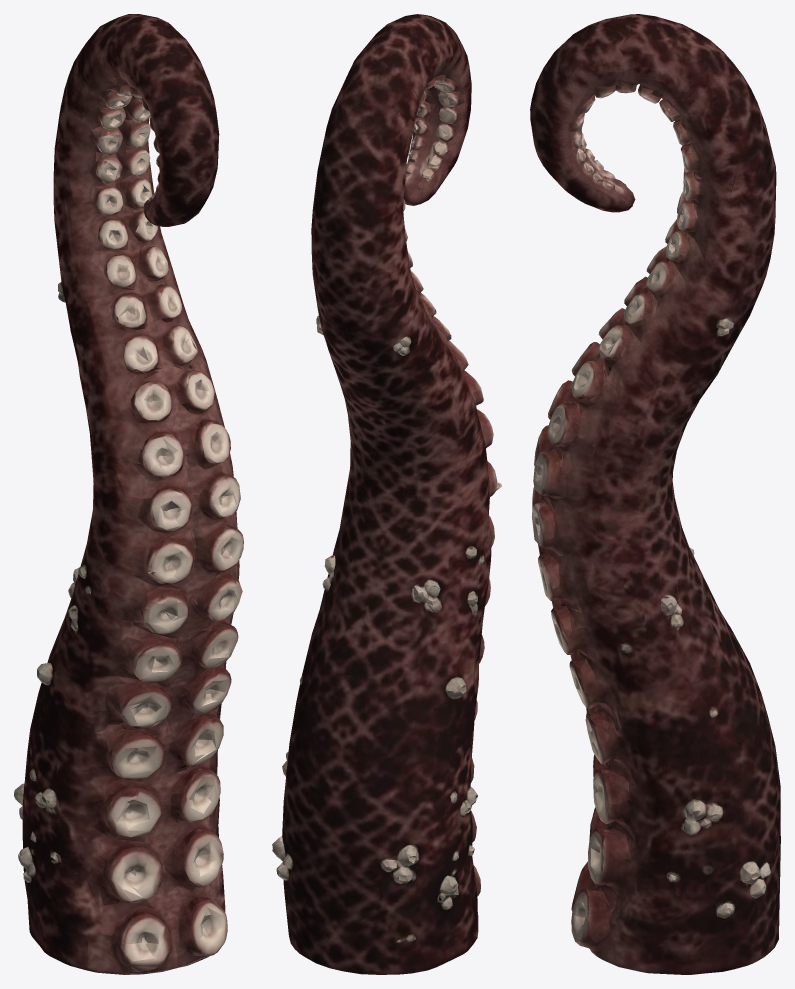
File: tentacle.glb
The picture shows the model from 3 angles, left to right: view 1: azimuth 30°, elevation 25°; view 2: azimuth 150°, elevation 25°; view 3: azimuth 270°, elevation 25°; orthographic projection. The views are drawn at different scales.
Parts seen in each view (by area): view 1: Mesh_0; view 2: Mesh_0; view 3: Mesh_0.
Part boxes in pixels (left/top/right/bottom): Mesh_0: left=14, top=14, right=243, bottom=974; Mesh_0: left=272, top=14, right=501, bottom=974; Mesh_0: left=530, top=14, right=780, bottom=974.
Bounding box in the file's own units: 0.3966 × 1.9 × 0.4707.
1 material, 1 textured.
